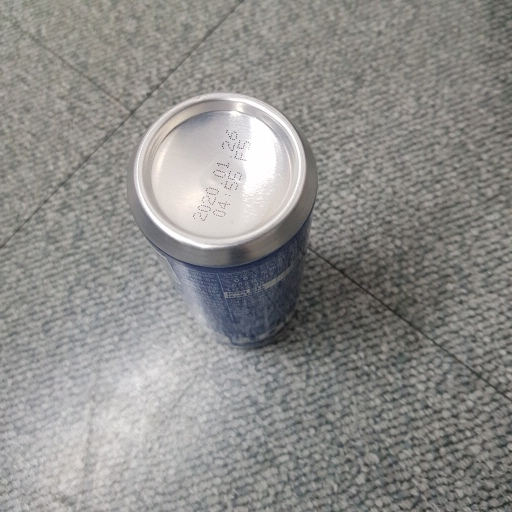Metal_0: (129, 90, 320, 350)
